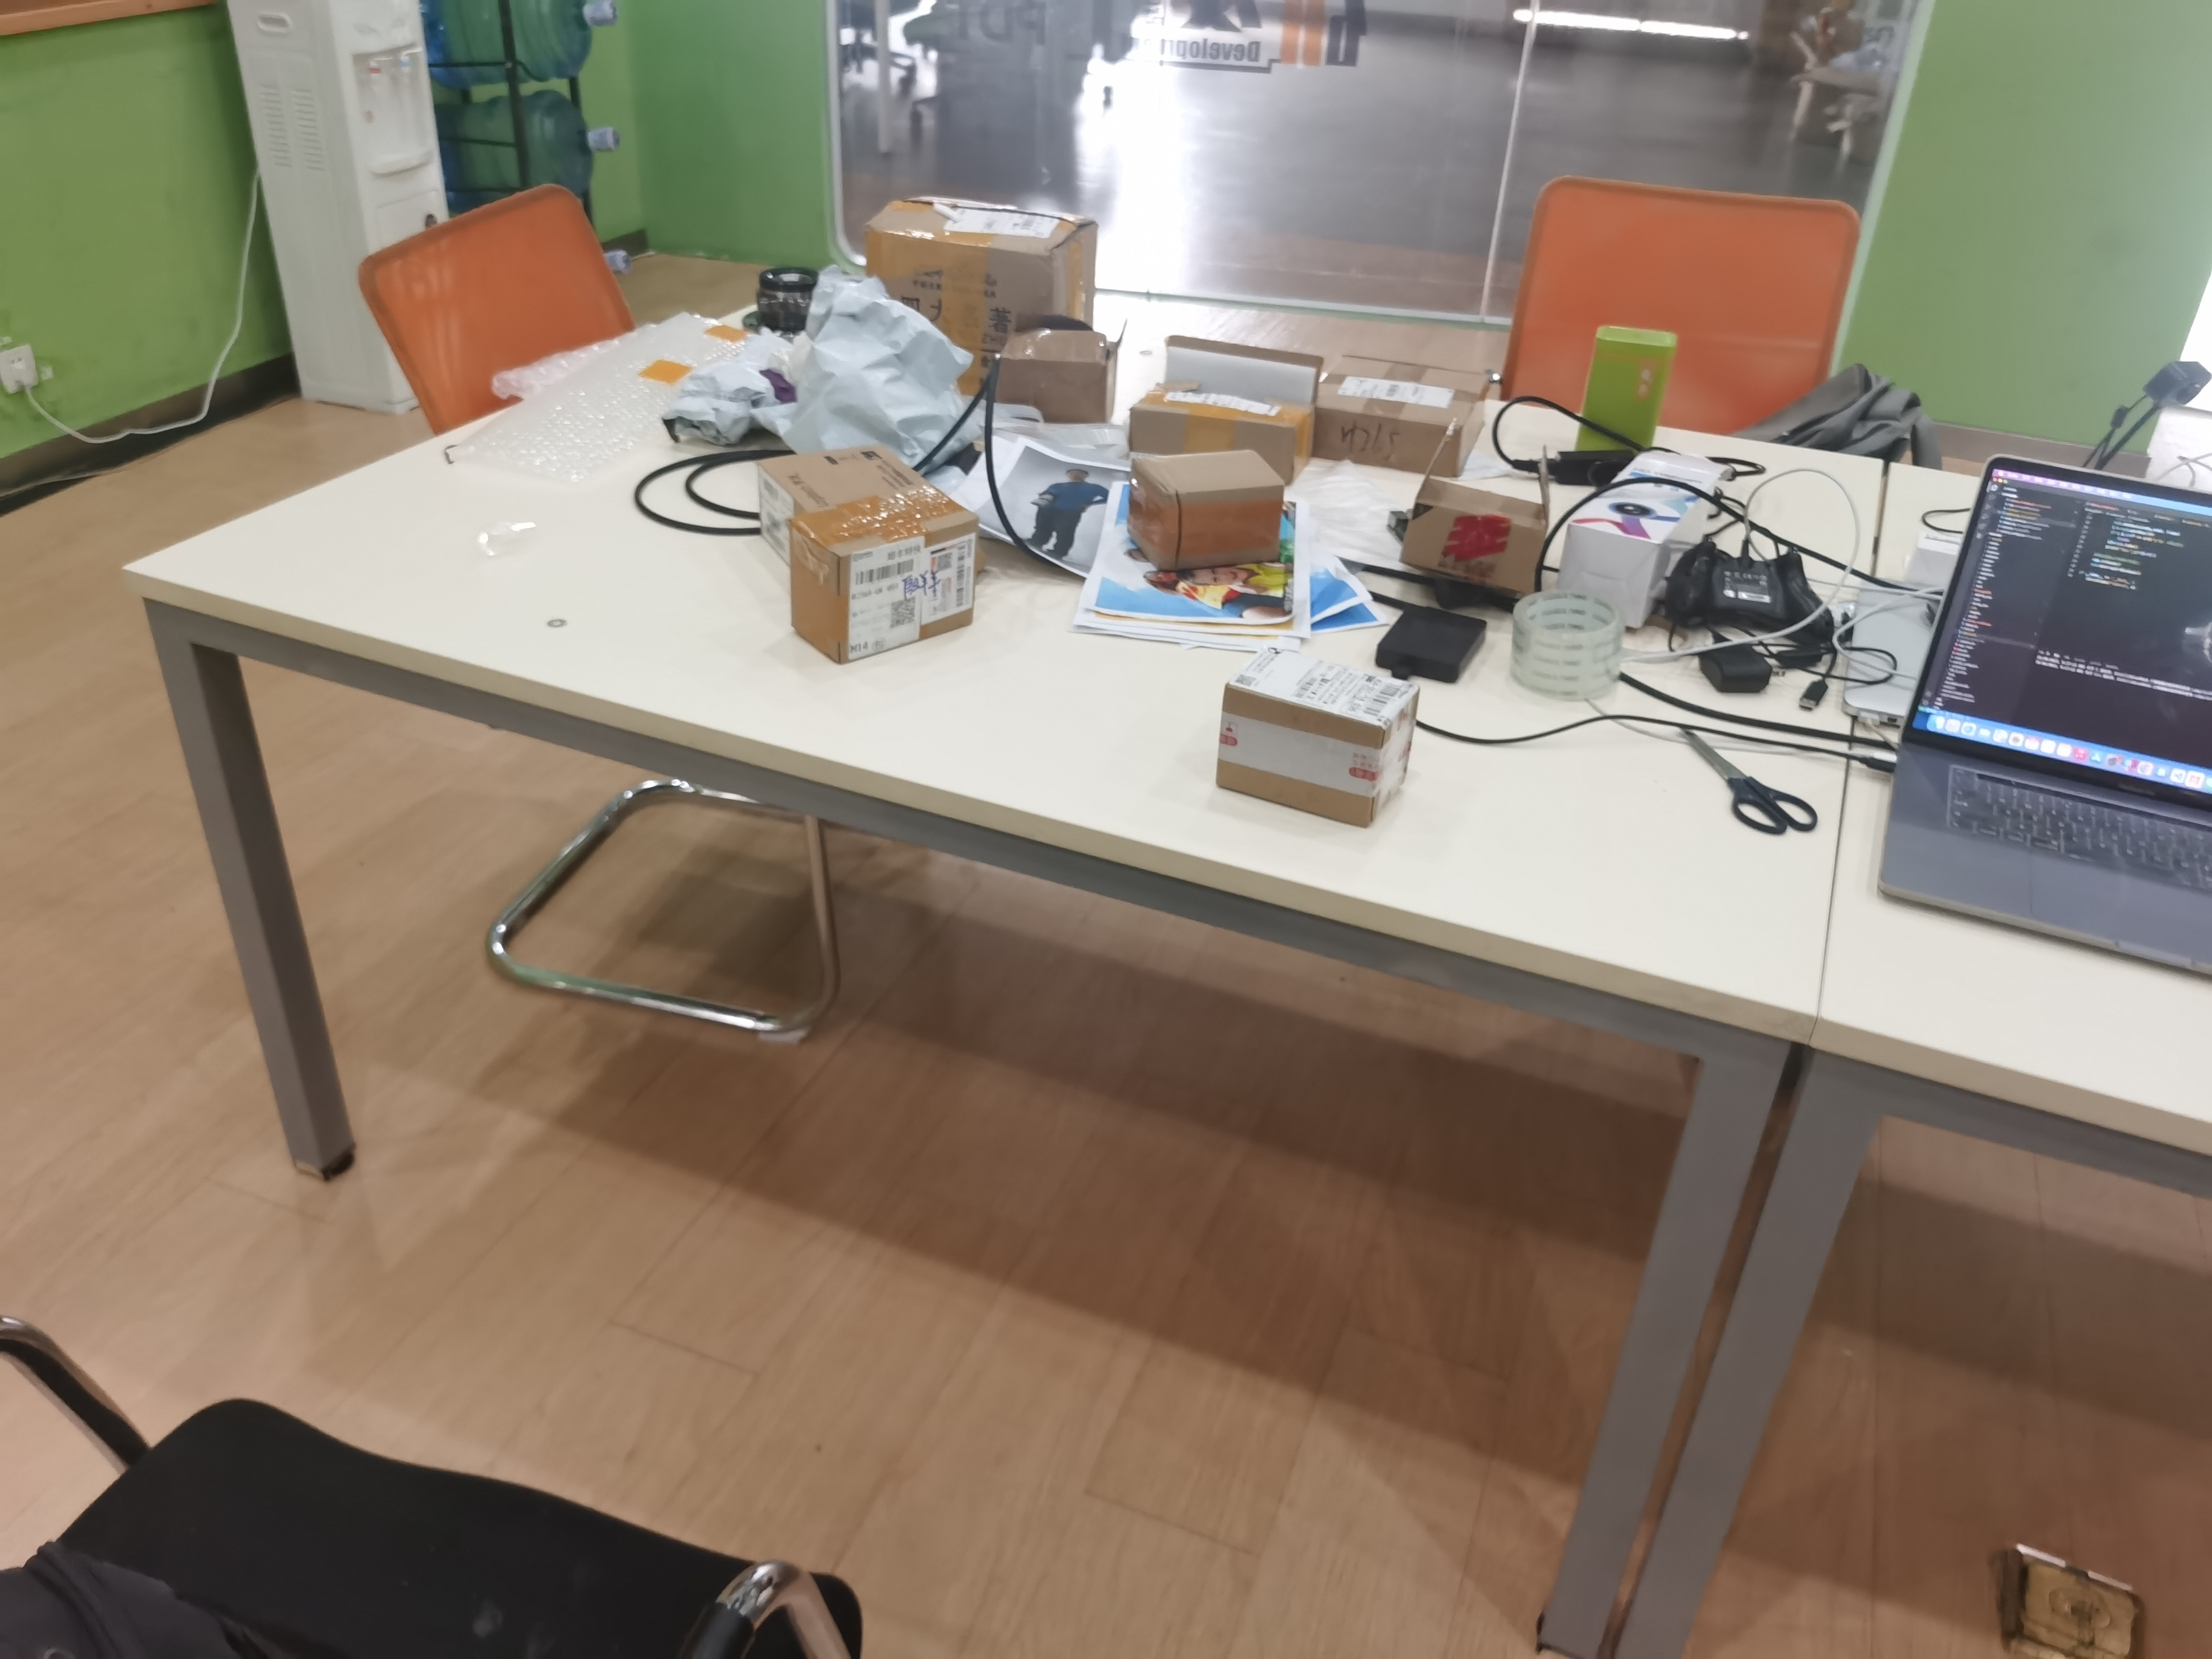box: (850, 178, 1129, 453), (742, 430, 984, 666), (1202, 636, 1432, 833), (1118, 319, 1332, 483), (1395, 423, 1562, 605), (1312, 340, 1503, 481), (1118, 437, 1291, 566)
